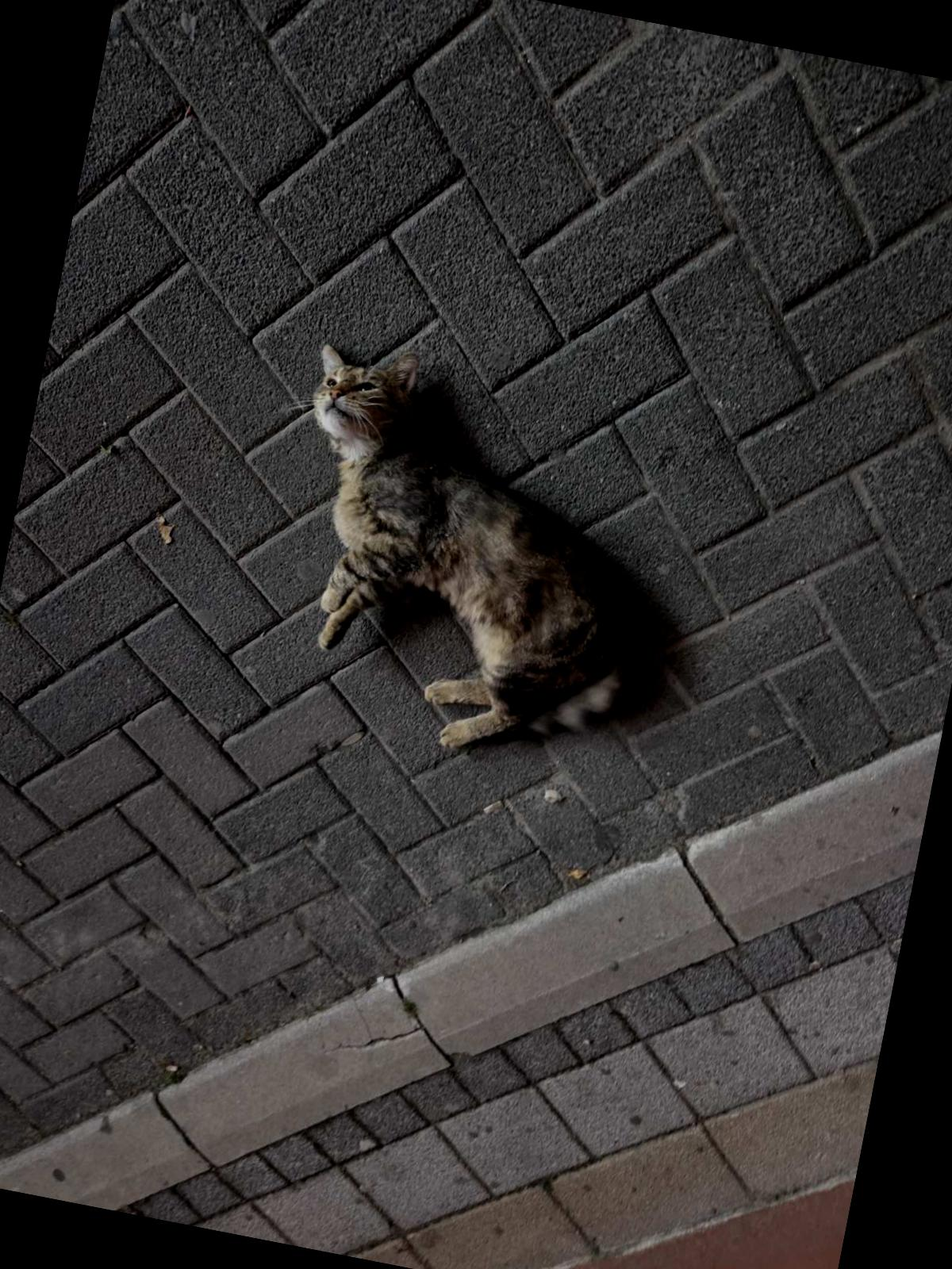macka: (246, 335, 682, 785)
